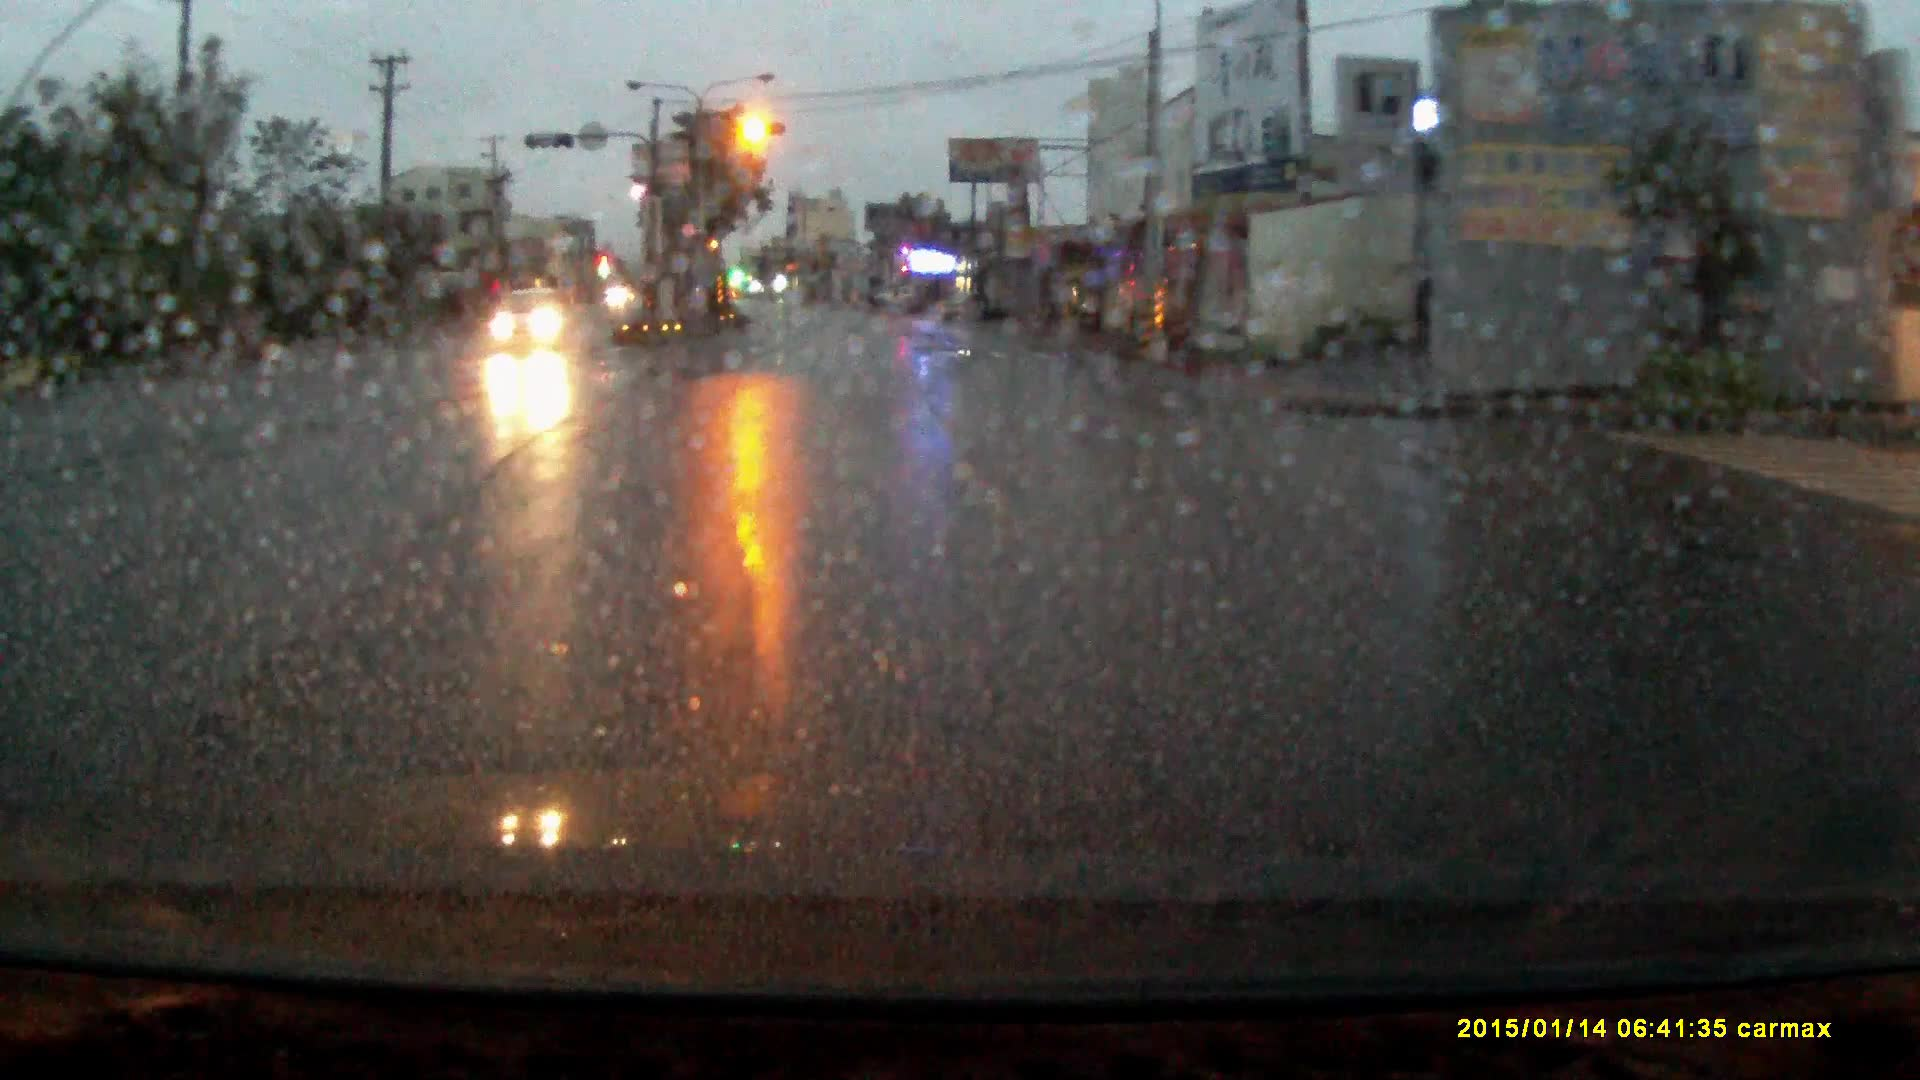vehicle: (489, 291, 574, 361)
